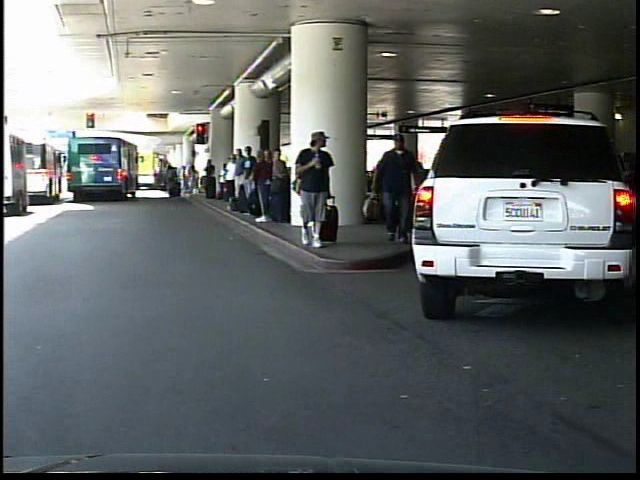person: (297, 127, 341, 249), (376, 129, 418, 248)
